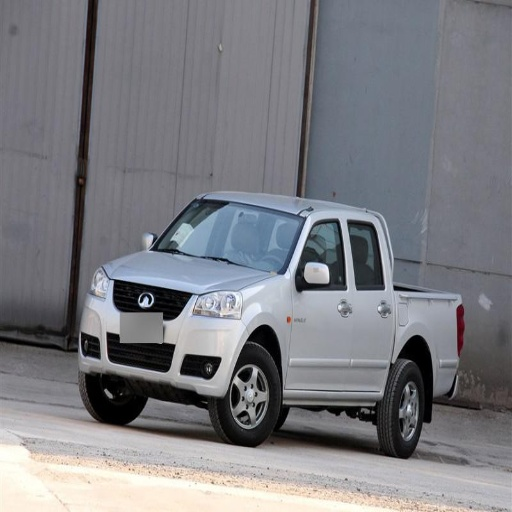back_left_door: (345, 217, 391, 391)
front_bumper: (82, 278, 248, 397)
front_glass: (151, 200, 303, 272)
front_left_door: (291, 217, 354, 388)
trunk: (392, 288, 458, 393)
